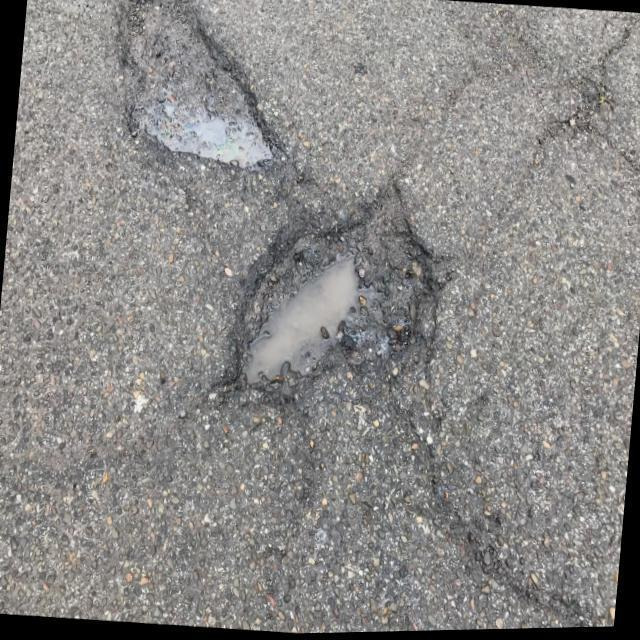Pothole: (226, 191, 442, 411), (114, 0, 274, 167)
